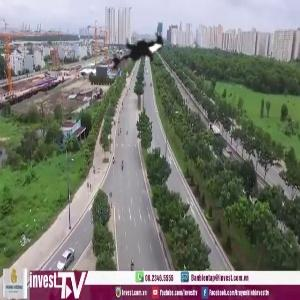drone: (94, 12, 187, 105)
